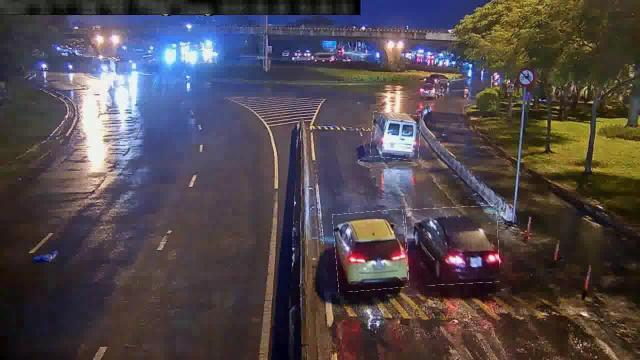Bus: (371, 113, 421, 159)
Car: (406, 207, 499, 285), (334, 210, 408, 292)
